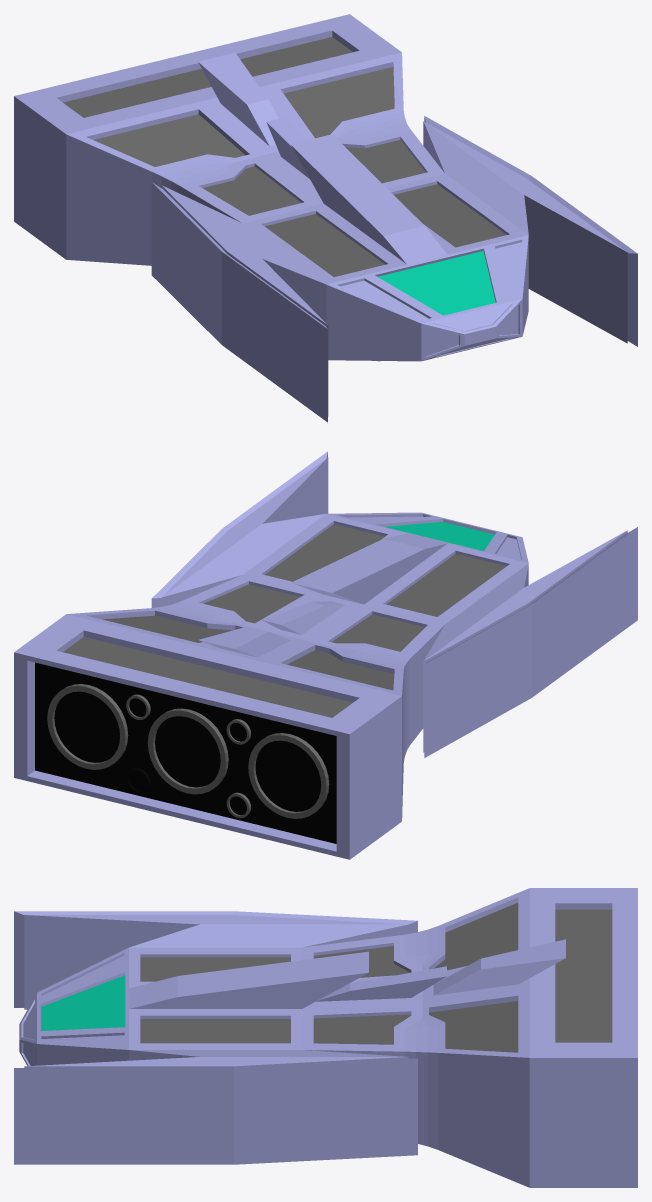
Rendered from NEW_space_shift.fbx.
3 renders of one model, top to bottom at view 1: azimuth 30°, elevation 25°; view 2: azimuth 150°, elevation 25°; view 3: azimuth 270°, elevation 25°, orthographic. The views are drawn at different scales.
Parts seen in each view (by area): view 1: Cube; view 2: Cube, Cylinder, Cylinder.002, Cylinder.001; view 3: Cube.
Boxes of the visible parts, x1,y1,x2,y2 form: Cube: [14, 14, 637, 422]; Cube: [14, 451, 637, 859]; Cylinder: [147, 708, 228, 794]; Cylinder.002: [47, 684, 128, 769]; Cylinder.001: [248, 733, 329, 818]; Cube: [14, 888, 637, 1187].
Bounding box in the file's own units: 3341 × 1416 × 5188.
